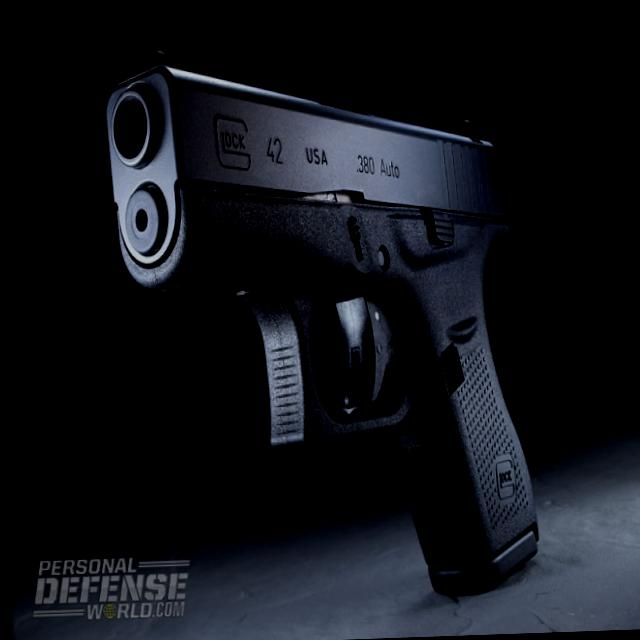handgun: (94, 31, 540, 604)
